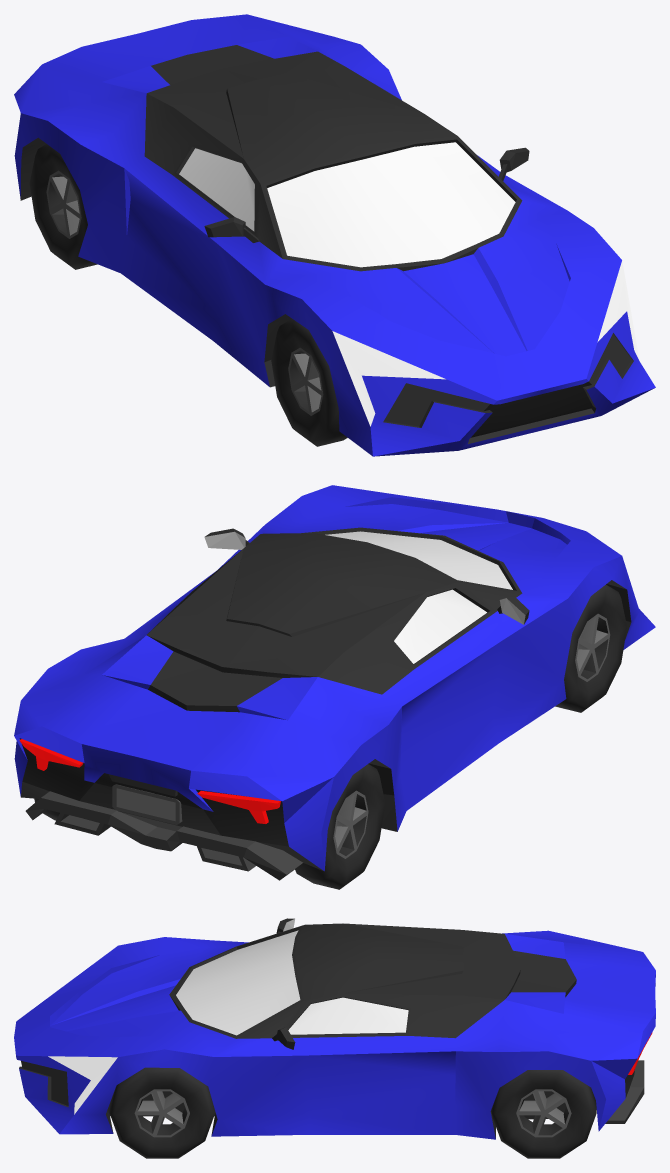
File: fenyr.glb
3 renders of one model, top to bottom at view 1: azimuth 30°, elevation 25°; view 2: azimuth 150°, elevation 25°; view 3: azimuth 270°, elevation 25°, orthographic. The views are drawn at different scales.
Parts seen in each view (by area): view 1: fenyr, wheels.020, wheels.021; view 2: fenyr, wheels.021, wheels.020; view 3: fenyr, wheels.038, wheels.039.
Part boxes in pixels (bbox=[...]): fenyr: bbox=[14, 14, 655, 456]; wheels.020: bbox=[271, 319, 347, 446]; wheels.021: bbox=[29, 144, 97, 269]; fenyr: bbox=[14, 485, 655, 880]; wheels.021: bbox=[295, 764, 385, 889]; wheels.020: bbox=[555, 585, 626, 712]; fenyr: bbox=[14, 918, 655, 1139]; wheels.038: bbox=[109, 1067, 215, 1158]; wheels.039: bbox=[491, 1070, 596, 1158].
Bounding box in the file's own units: 2.22 × 1.3 × 4.88.
3 materials, 2 textured.
